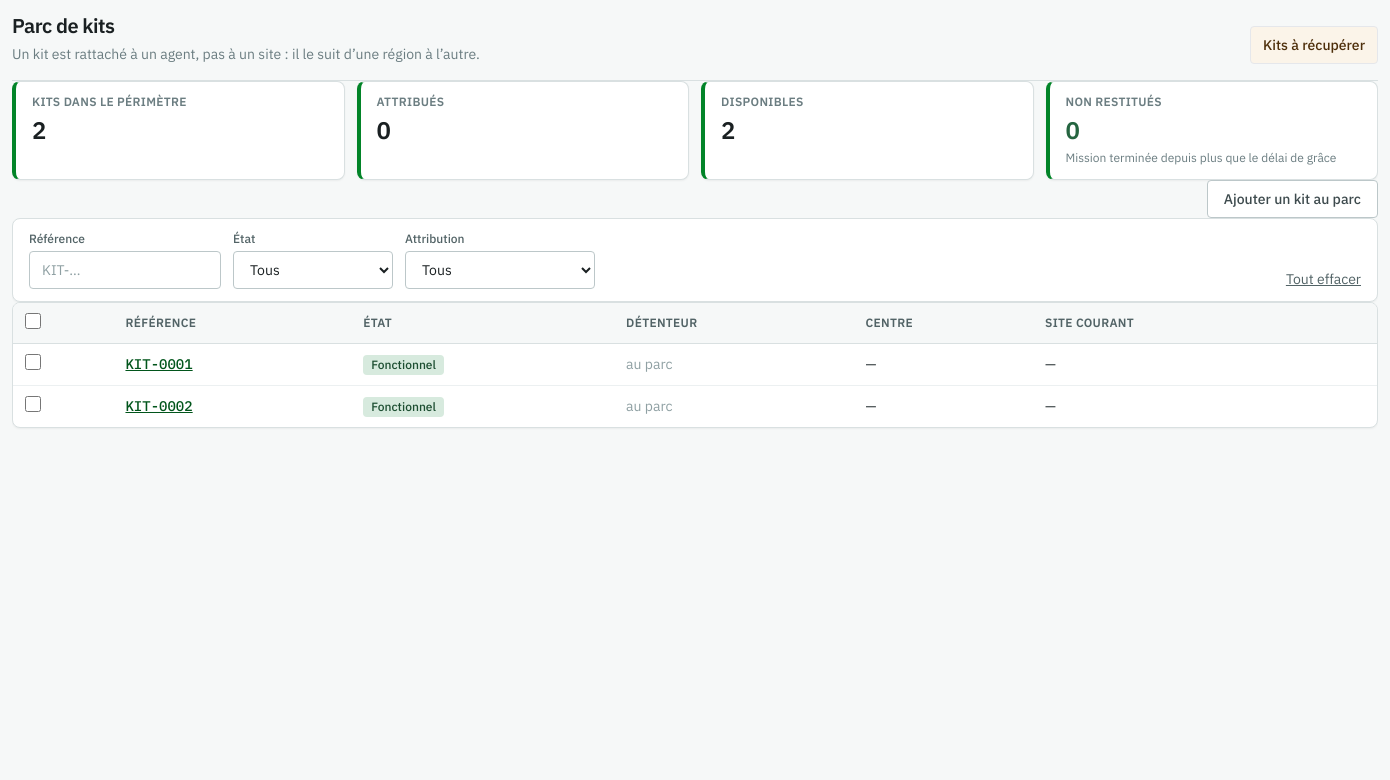
Test case: supprimer des lignes cochées › ne supprime rien au premier clic, et nomme ce qui partira
Click the checkbox named "Choisir KIT-0001": (33, 362) [25, 354, 41, 370]
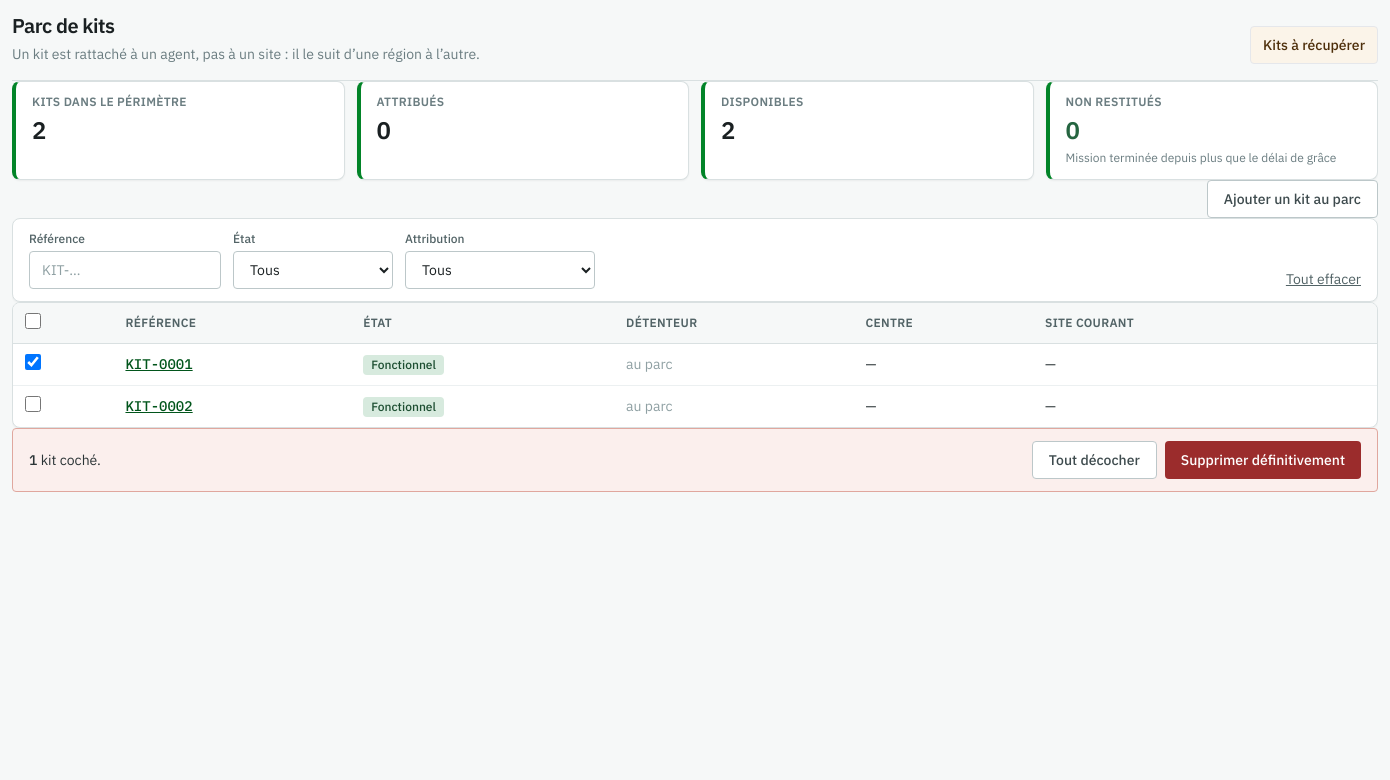
Click the button "Supprimer définitivement": (1263, 460) [1165, 440, 1361, 478]
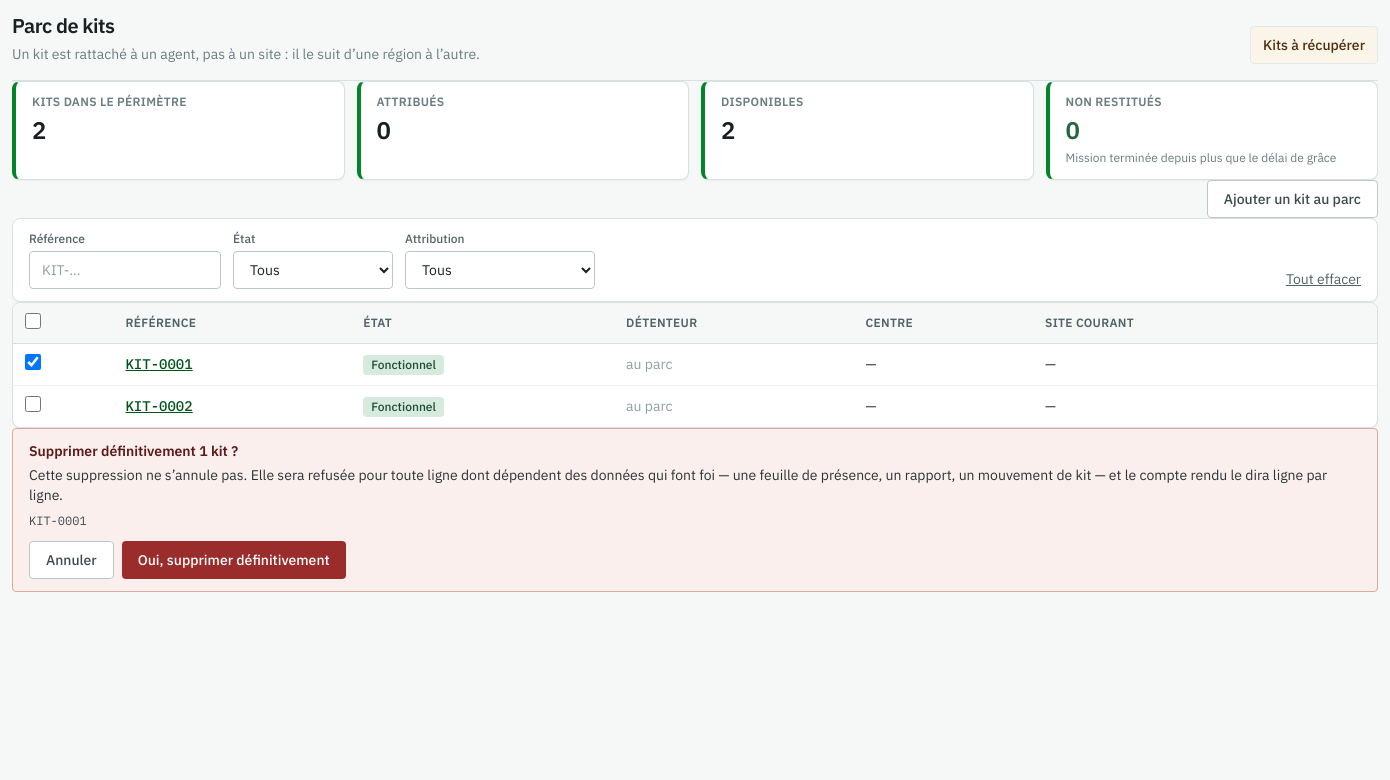
Expected: the text "Supprimer définitivement 1 kit ?" is shown, [29, 442, 238, 460]
Expected: the text "KIT-0001" is shown, [29, 512, 87, 528]
